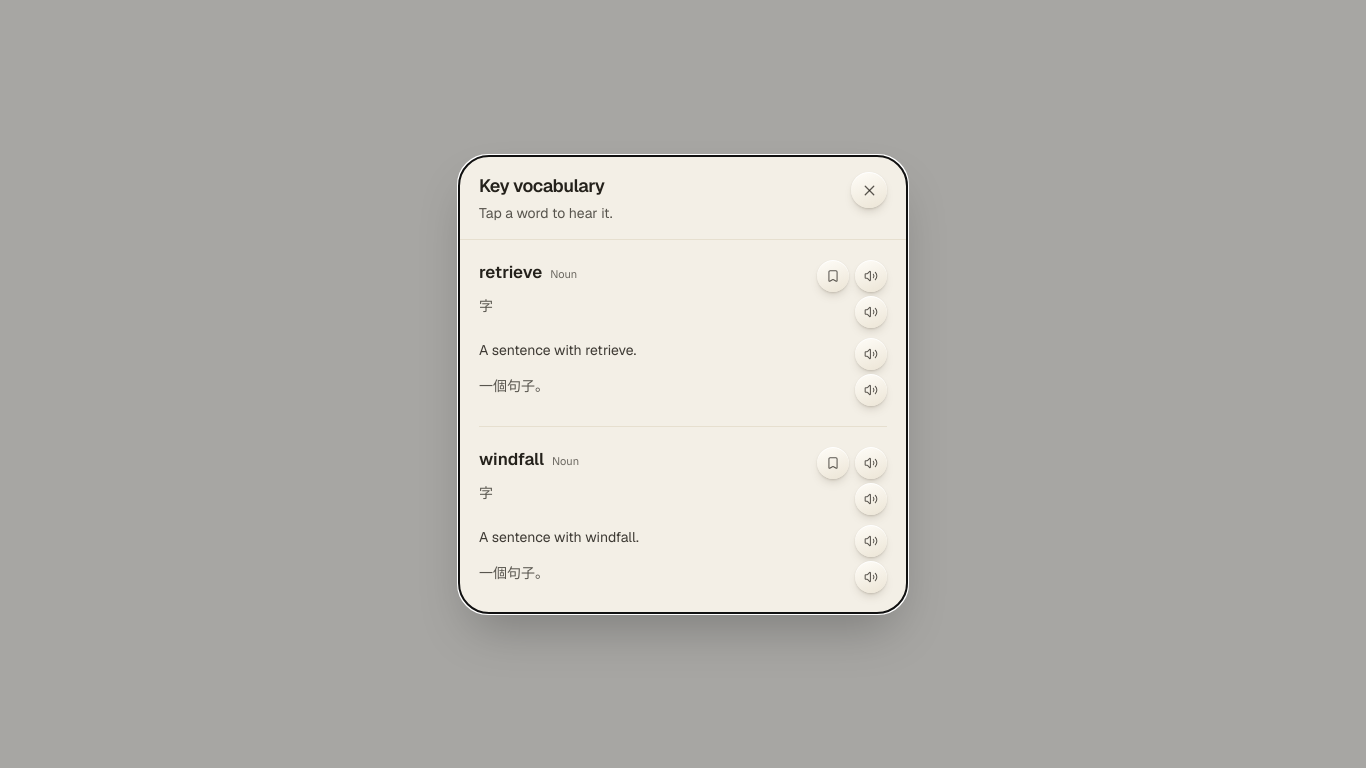
it: when the save does not work › says something rather than nothing
Click the button named "Add windfall to Vocabulary".
click(833, 462)  # box [817,446,849,478]
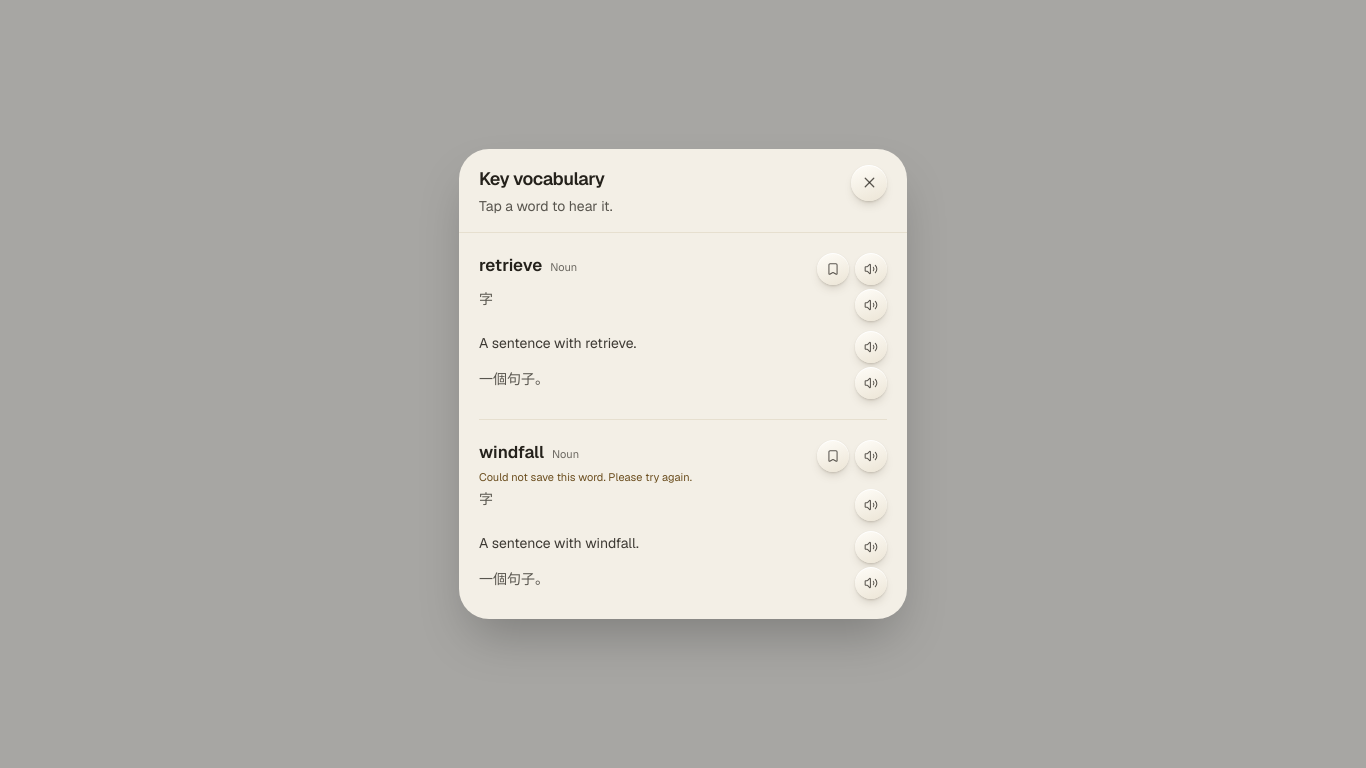
Expected: the text "Could not save this word. Please try again." is shown, [479,469,692,485]
